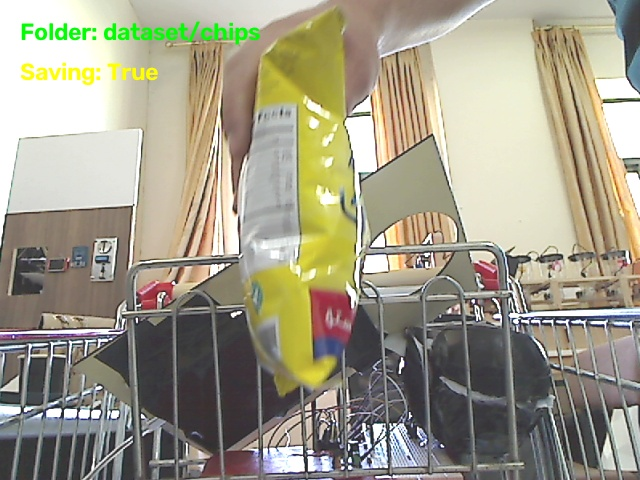chips: (239, 9, 365, 394)
